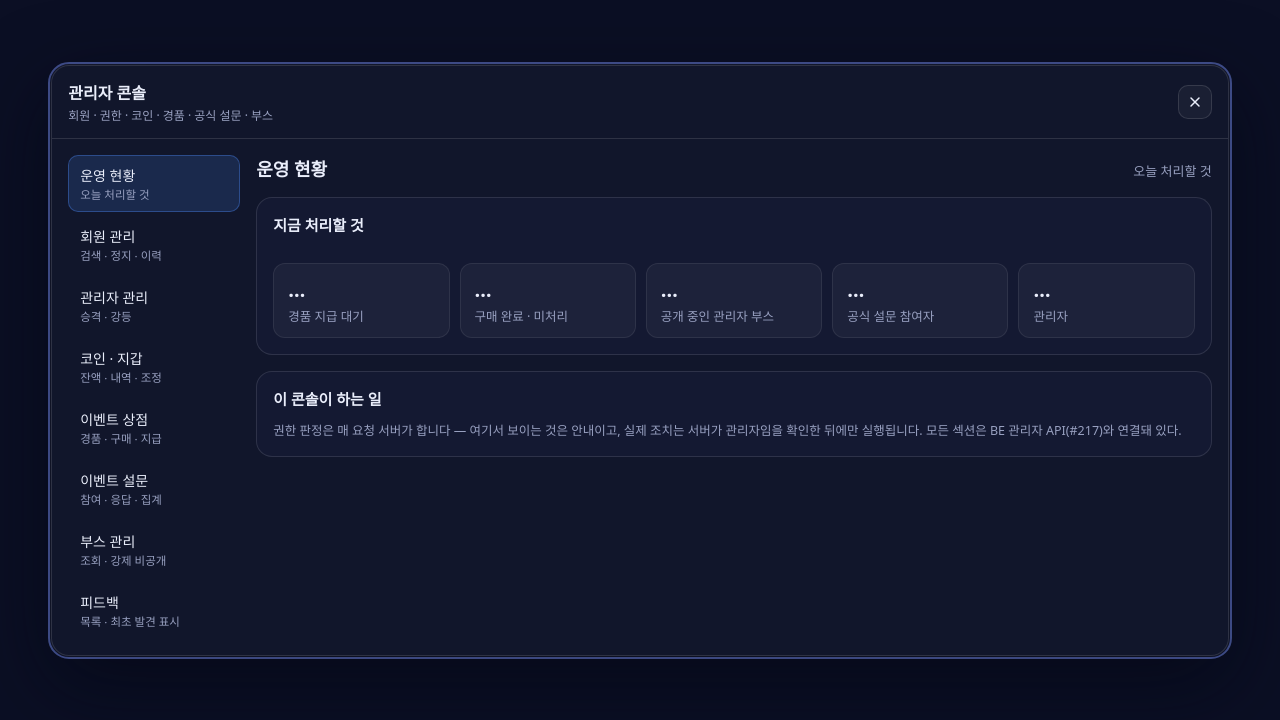
Test: 구매 표 받는 자 3열 › 값 있는 행은 캠퍼스·조·이름을 보여준다
Click the button "이벤트 상점 경품 · 구매 · 지급" at coordinates (154, 427), box [68, 398, 240, 456]
(page scrolled)
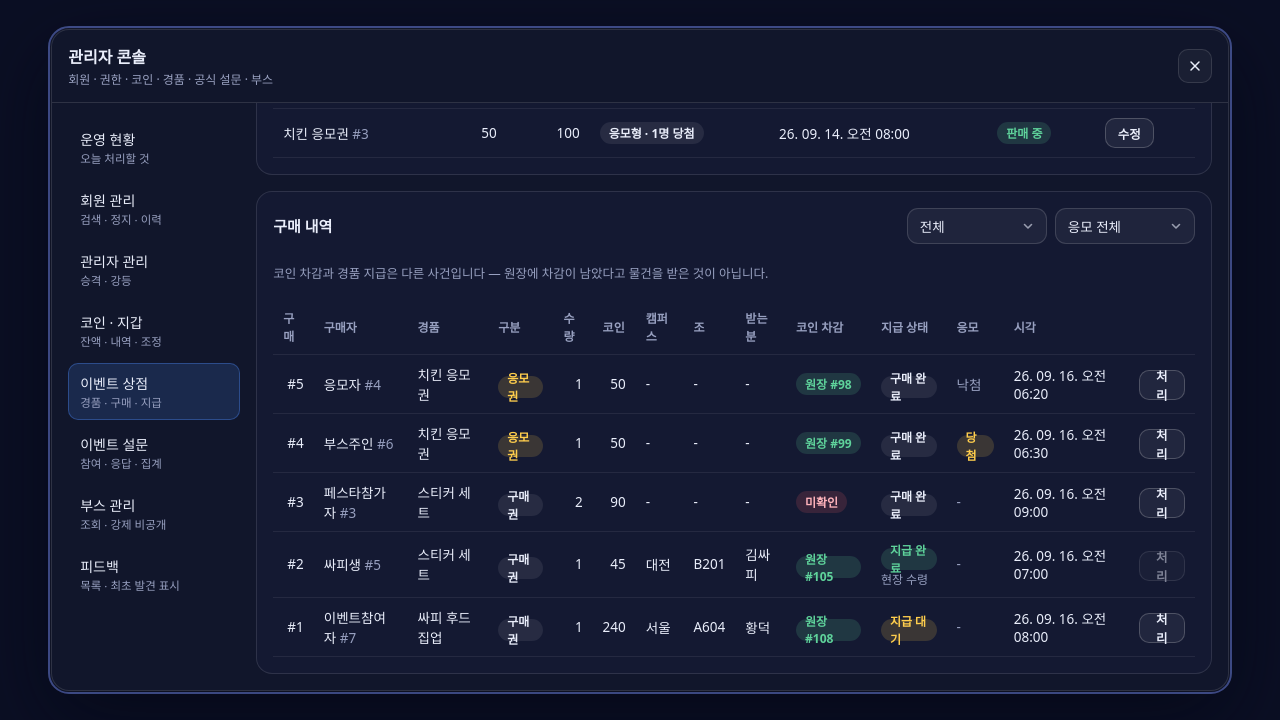
Expected: the text "서울" is shown, [636, 597, 683, 656]
Expected: the text "A604" is shown, [683, 597, 735, 656]
